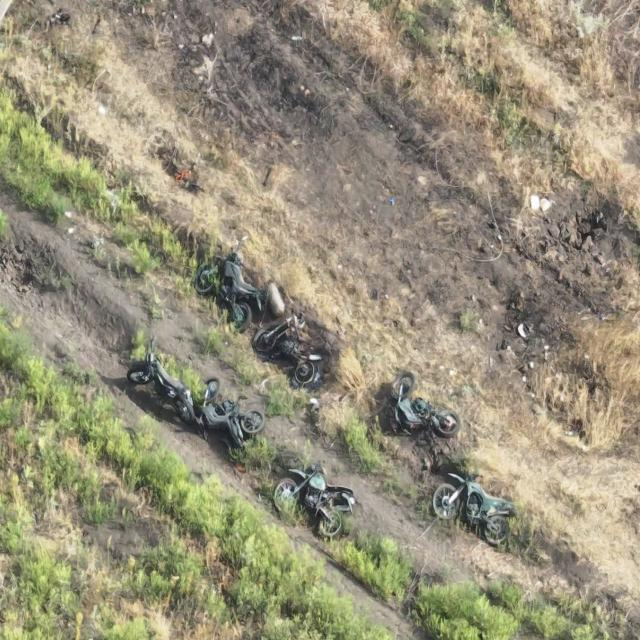vehicle: (432, 470, 514, 545), (275, 461, 354, 538), (128, 337, 192, 431), (195, 245, 261, 334), (254, 310, 319, 388), (196, 377, 263, 448), (391, 374, 460, 436)
